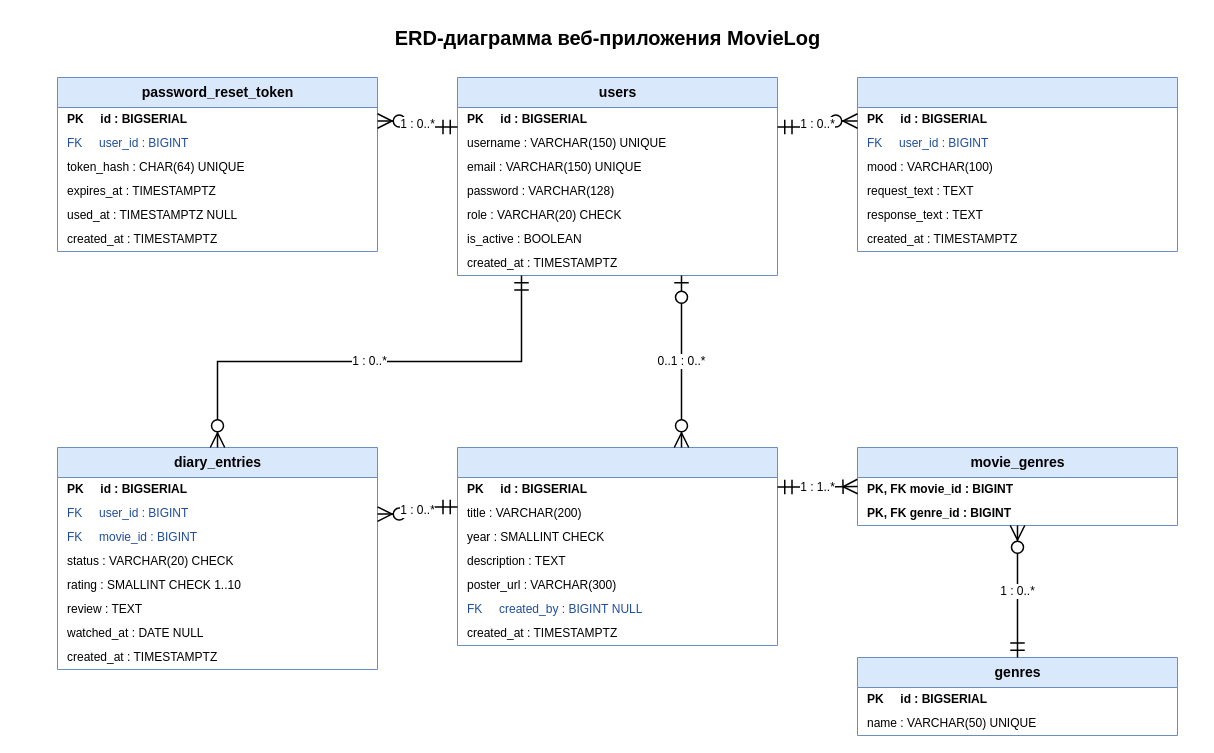
The diagram is 1214 pixels wide and 753 high, and some of its shapes have lost their labels. Here are the shapes that lost their labels. From the top down, the box of each, then its label:
(856, 76, 1178, 252): ai_recommendations
(456, 446, 778, 646): movies
